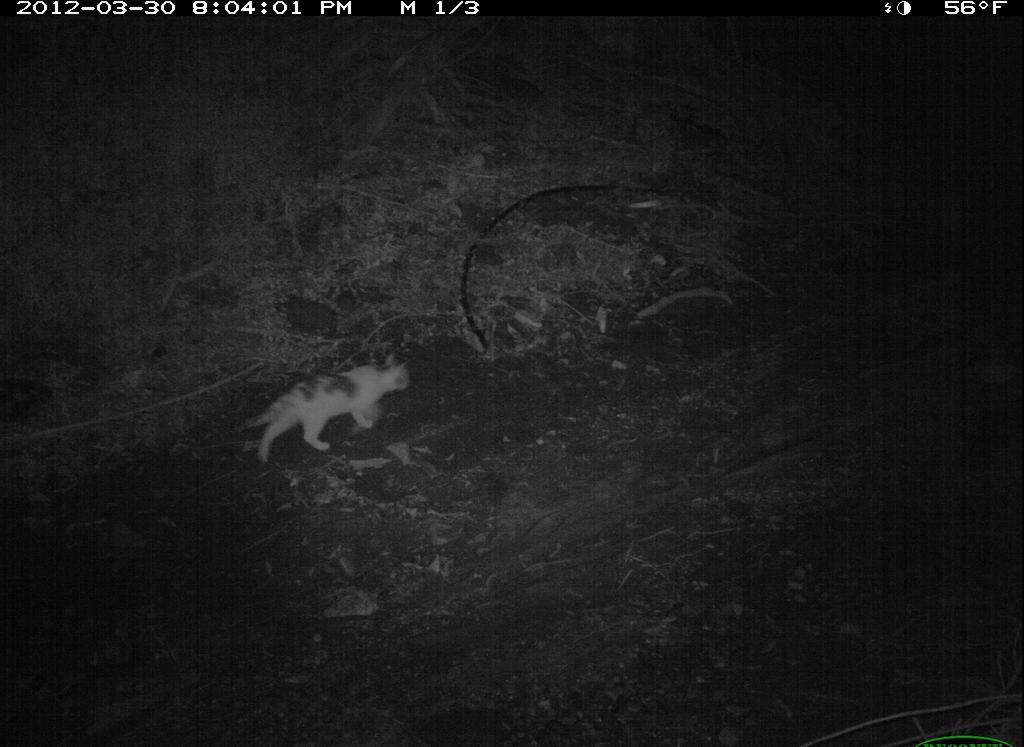cat: (228, 342, 423, 470)
